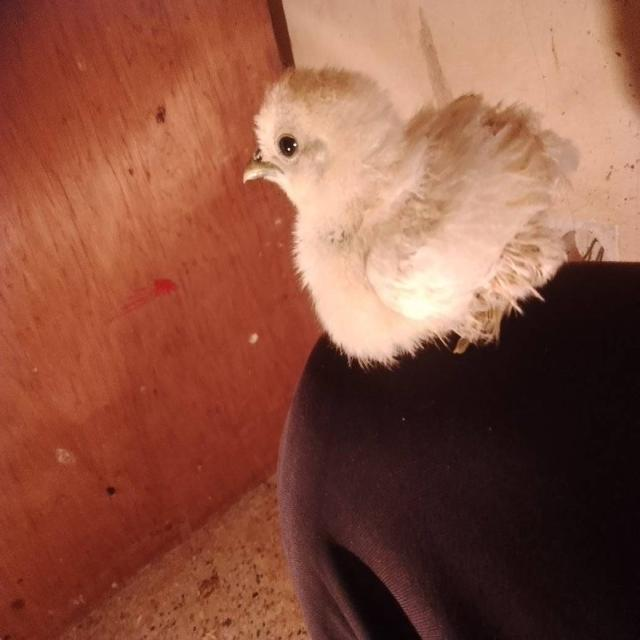Healthy: (227, 50, 575, 371)
